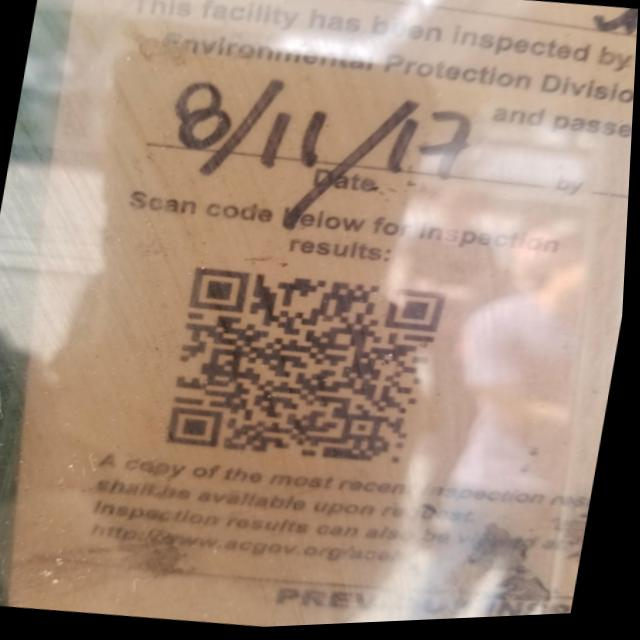QR_CODE: (139, 237, 471, 501)
